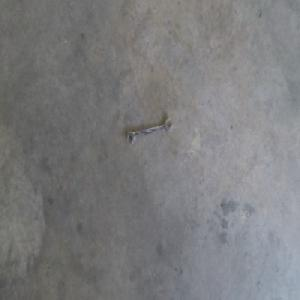Wrench: (126, 117, 172, 146)
